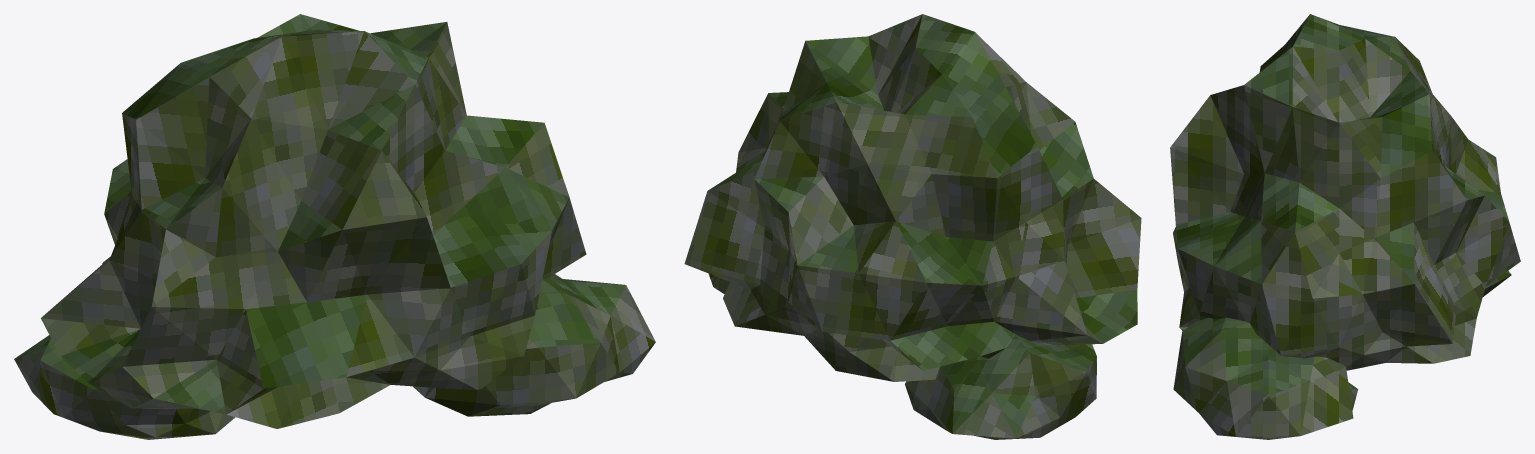
File: cliff_rock.glb
3 views of the same model, side by side, from view 1: azimuth 30°, elevation 25°; view 2: azimuth 150°, elevation 25°; view 3: azimuth 270°, elevation 25° (orthographic). The views are drawn at different scales.
Parts seen in each view (by area): view 1: cliff_rock_Stone_Rock, cliff_rock_Stone_Moss; view 2: cliff_rock_Stone_Rock, cliff_rock_Stone_Moss; view 3: cliff_rock_Stone_Rock, cliff_rock_Stone_Moss.
Part boxes in pixels (x1,y1,x2,y2): cliff_rock_Stone_Rock: (14,22,655,439); cliff_rock_Stone_Moss: (14,14,625,414); cliff_rock_Stone_Rock: (684,14,1141,439); cliff_rock_Stone_Moss: (708,14,1137,438); cliff_rock_Stone_Rock: (1170,14,1520,439); cliff_rock_Stone_Moss: (1173,14,1511,395).
Bounding box in the file's own units: 4.92 × 3.52 × 3.48.
2 materials, 2 textured.
